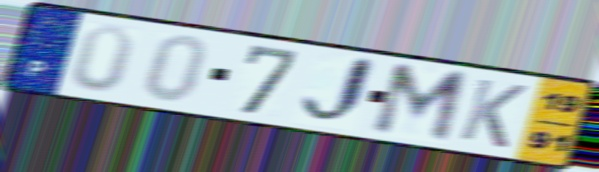0: (140, 32, 214, 105), (68, 23, 139, 94)
7: (240, 42, 300, 116)
J: (297, 53, 380, 128)
K: (454, 76, 531, 152)
M: (367, 61, 473, 147)
